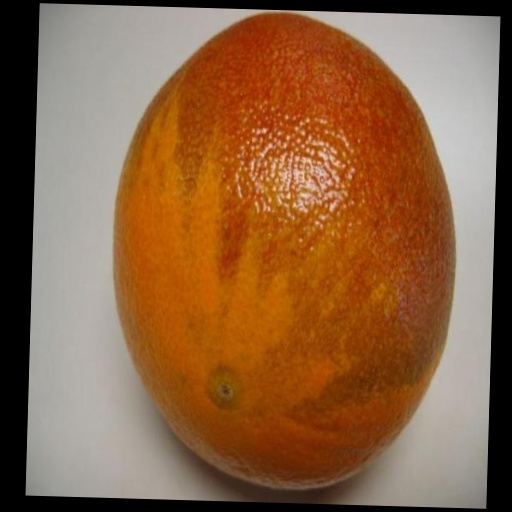fruit: (114, 14, 454, 487)
